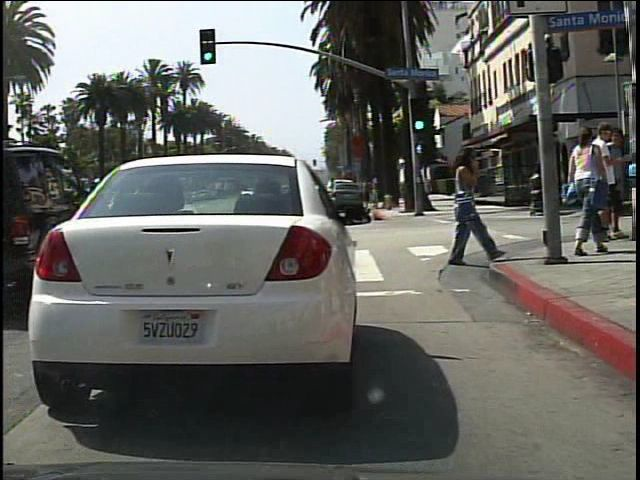person: (438, 141, 498, 270), (562, 121, 616, 262)
